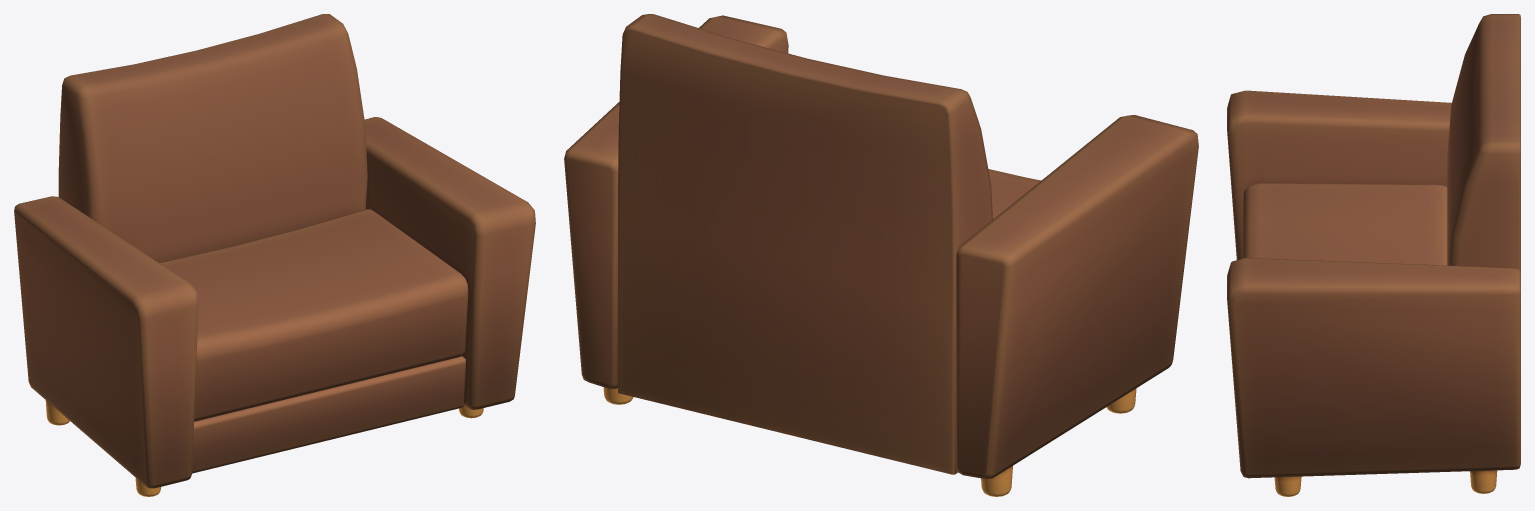
Rendered from OfficeSofa01_2.FBX.
The picture shows the model from 3 angles, left to right: view 1: azimuth 30°, elevation 25°; view 2: azimuth 150°, elevation 25°; view 3: azimuth 270°, elevation 25°; orthographic projection. The views are drawn at different scales.
Visible parts, largest first — view 1: OfficeSofa01_2; view 2: OfficeSofa01_2; view 3: OfficeSofa01_2.
Part boxes in pixels (x1,y1,x2,y2): OfficeSofa01_2: (14, 14, 535, 496); OfficeSofa01_2: (564, 14, 1198, 496); OfficeSofa01_2: (1227, 14, 1520, 496).
Size of what is drawn, in the model's own units: 1.72 by 1.35 by 1.08.
